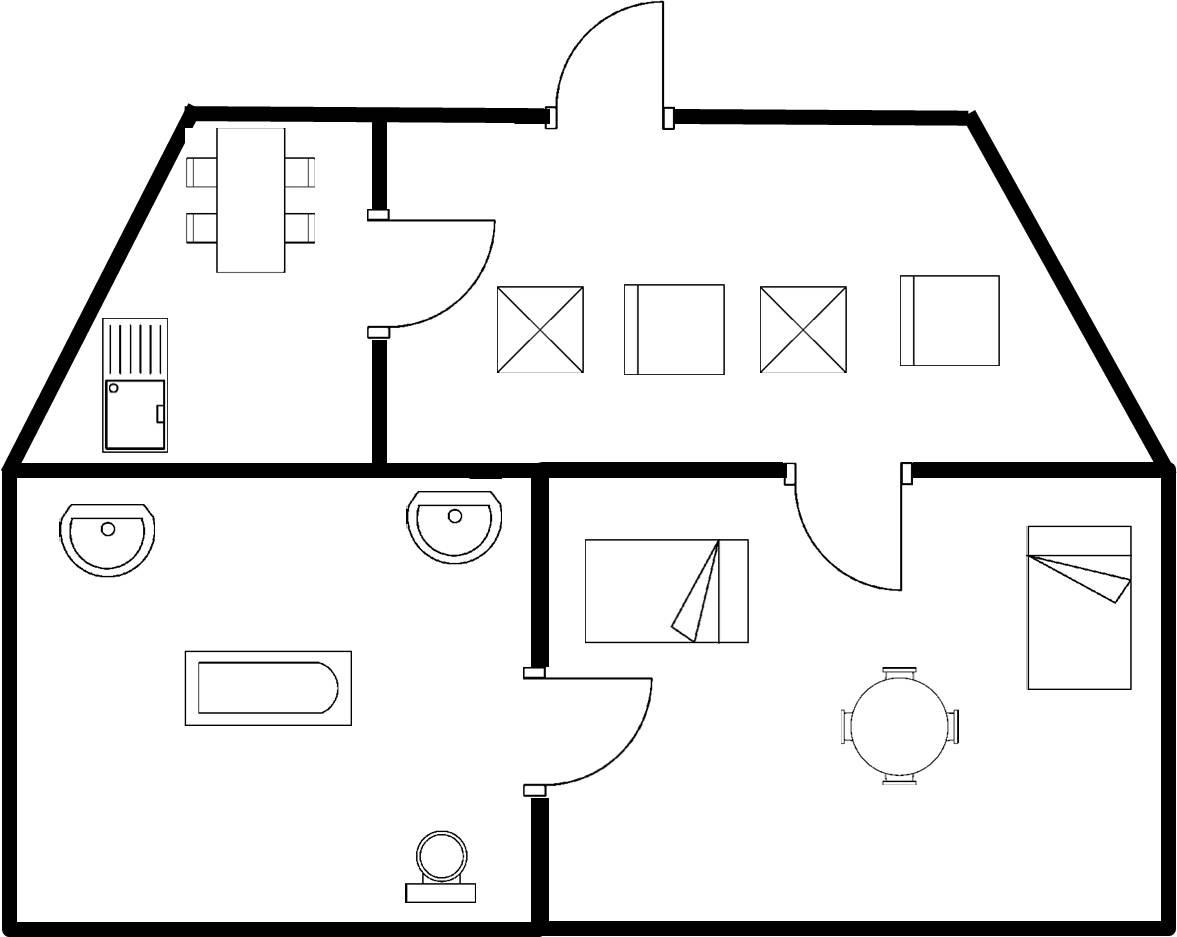bed: (574, 526, 757, 652), (1017, 516, 1140, 702)
dining_table: (179, 122, 322, 282)
round_table: (828, 654, 968, 791)
sink: (95, 309, 174, 458)
toilet: (396, 821, 483, 911)
tub: (178, 643, 363, 733)
